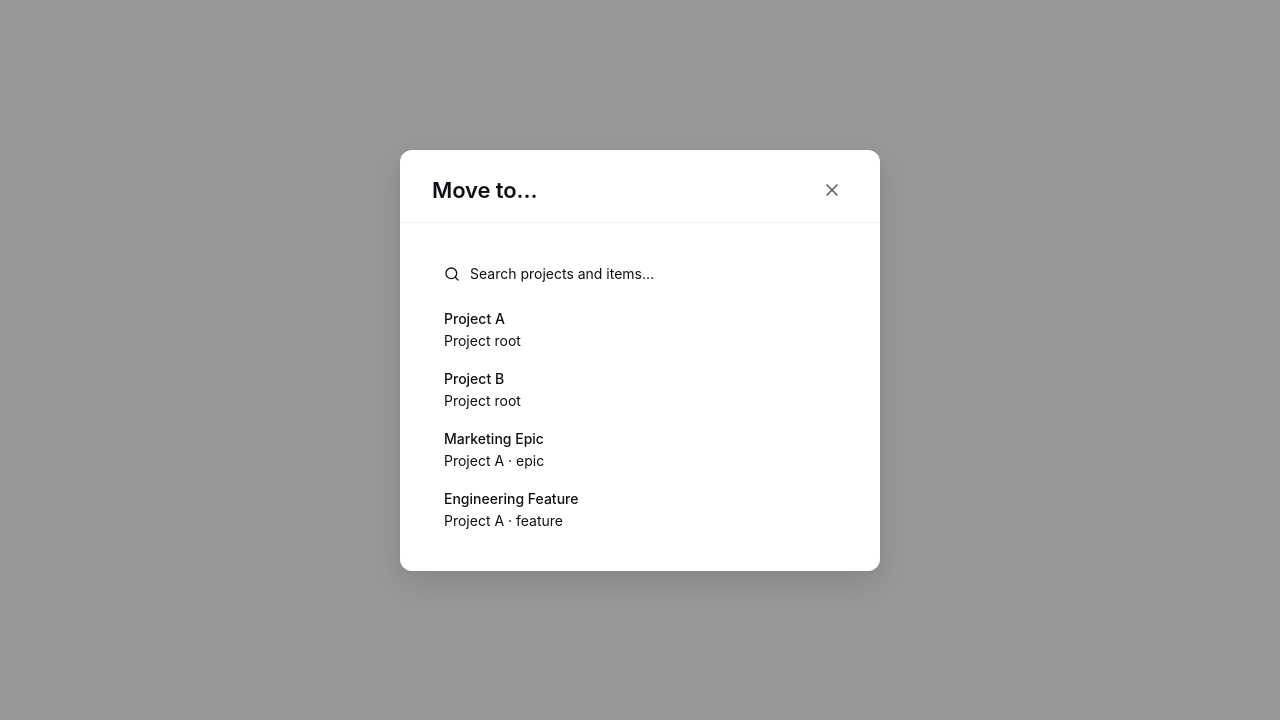
it: MoveToPickerModal › filtering by text hides non-matching candidates
Type "marketing" into the field with placeholder "Search projects and items…" at x=652, y=274, box [468, 262, 836, 284]
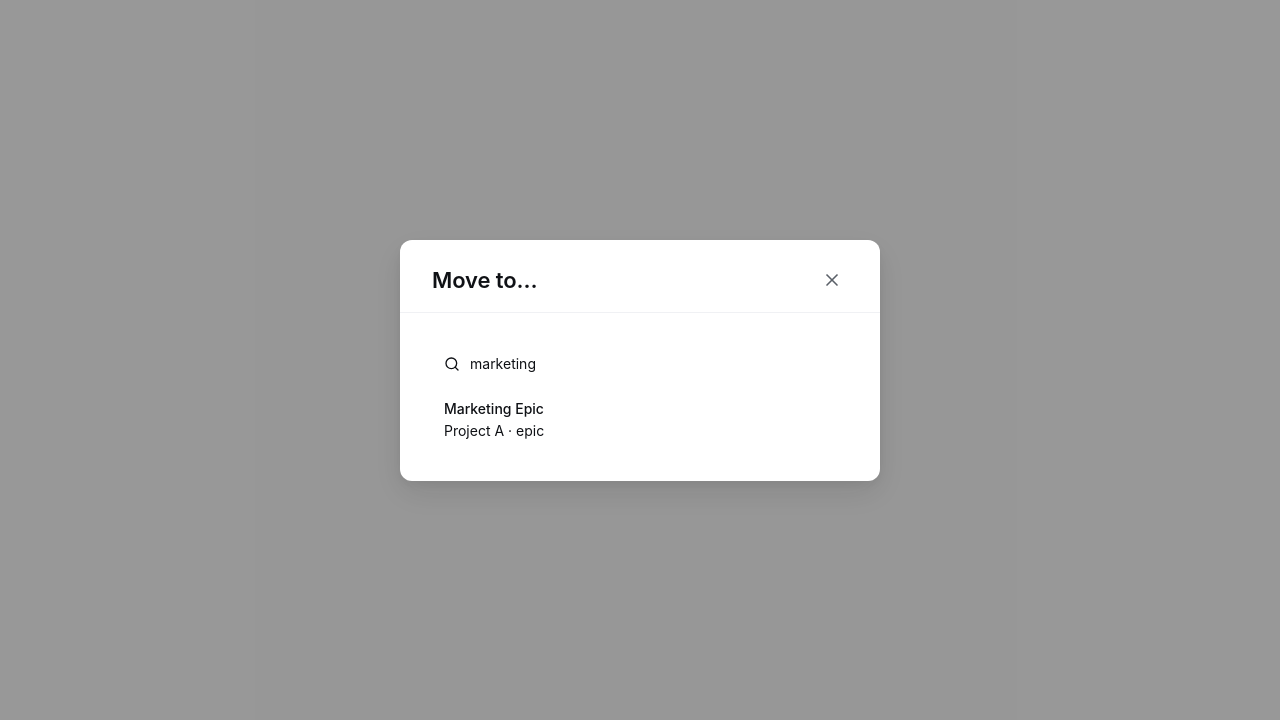
Result: the text "Marketing Epic" is shown at [444, 400, 544, 416]
Result: the text "Engineering Feature" is gone
